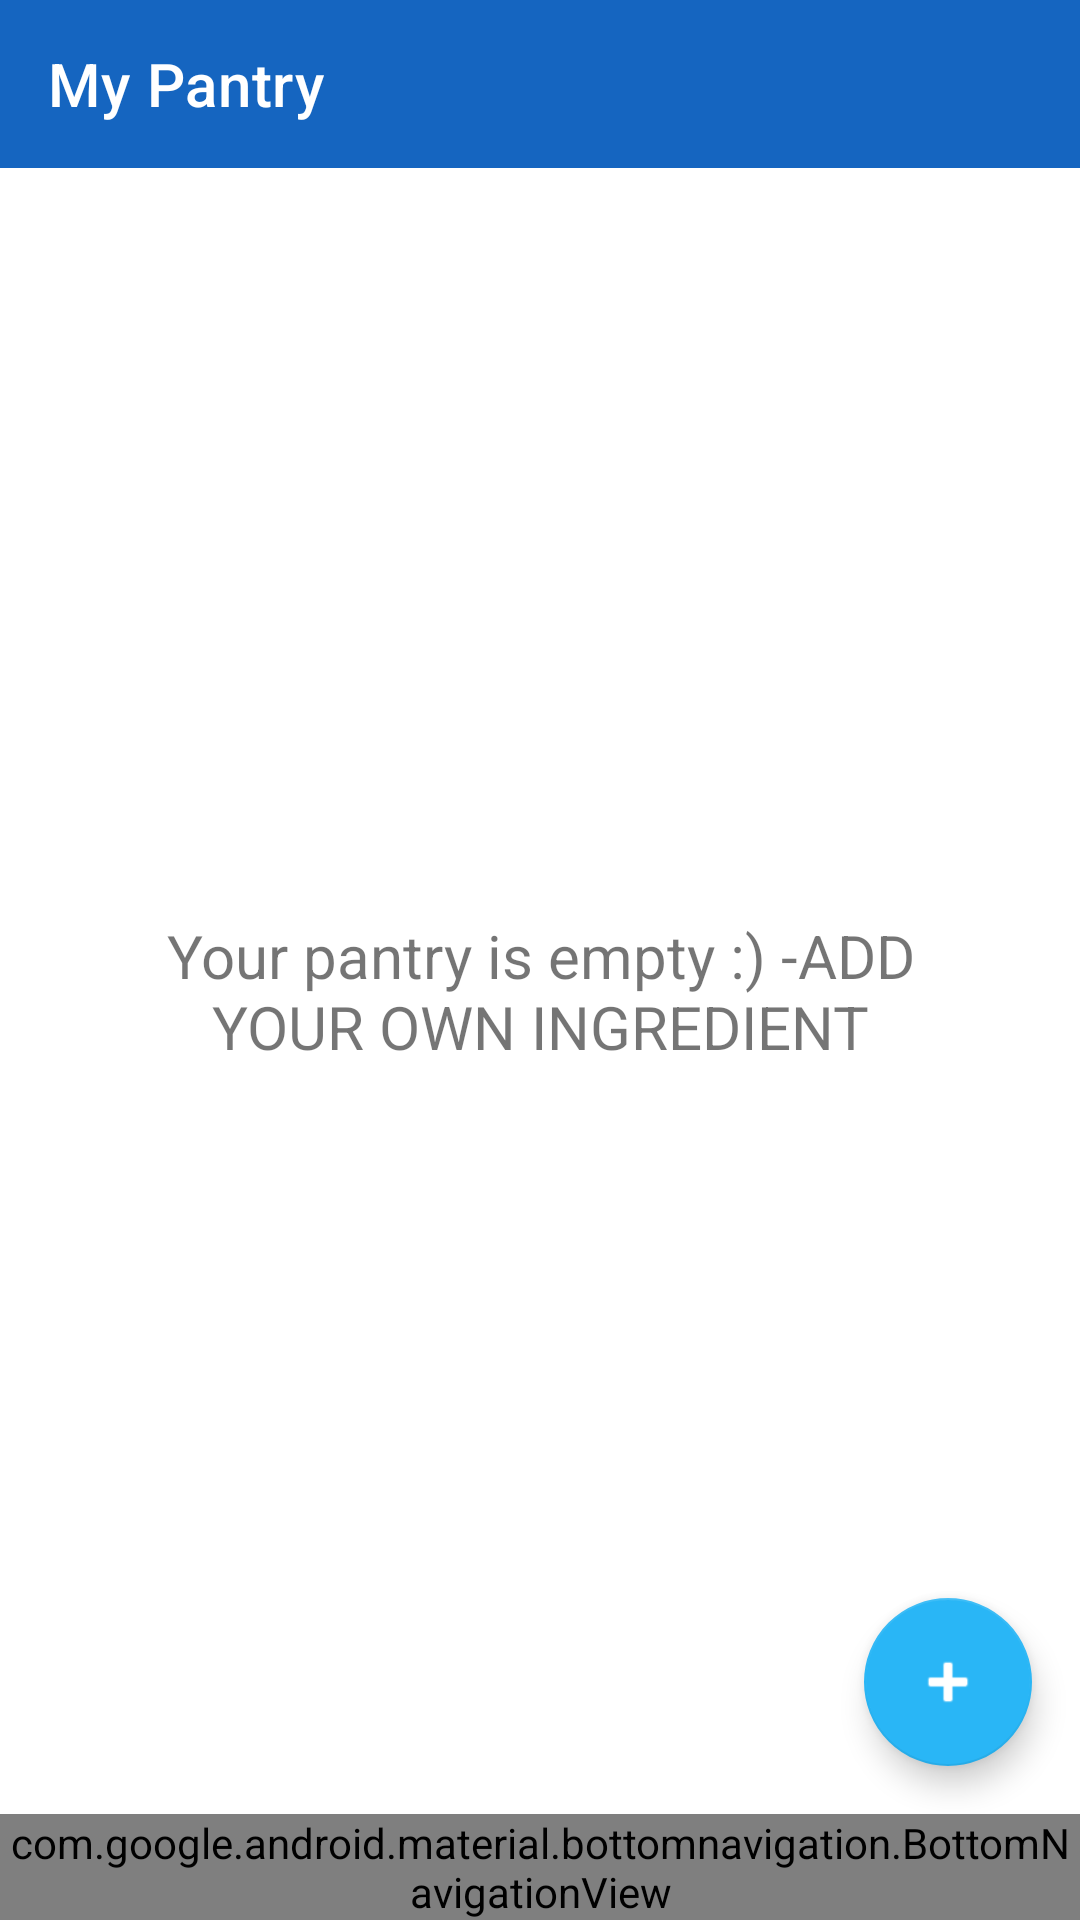

Named icons in this screenshot (1080 × 1920) and their centers, [x,y]:
Add your ingredient: [948,1682]
